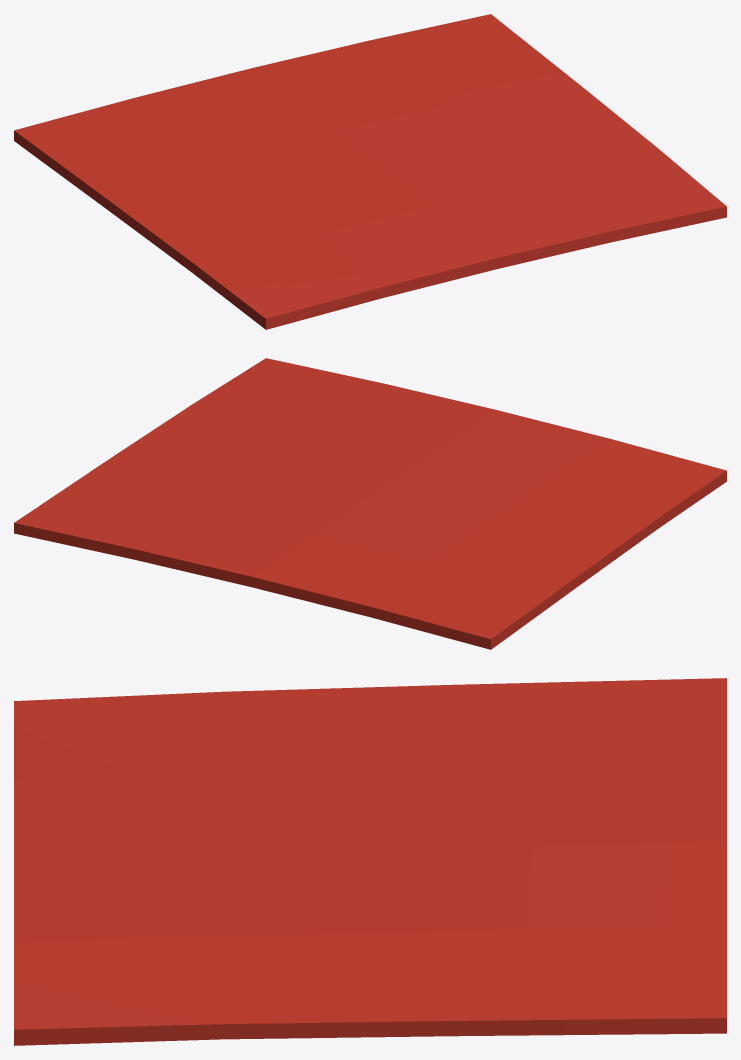
The model's file is kaze_gt_bonnet.glb.
3 views of the same model, one above another, from view 1: azimuth 30°, elevation 25°; view 2: azimuth 150°, elevation 25°; view 3: azimuth 270°, elevation 25° (orthographic). The views are drawn at different scales.
Visible parts, largest first — view 1: kaze_gt_bonnet; view 2: kaze_gt_bonnet; view 3: kaze_gt_bonnet.
Part boxes in pixels (bbox=[...]): kaze_gt_bonnet: bbox=[14, 14, 726, 329]; kaze_gt_bonnet: bbox=[14, 358, 726, 649]; kaze_gt_bonnet: bbox=[14, 678, 726, 1045].
Size of the model in its own units: 1.42 by 0.0773 by 1.26.
